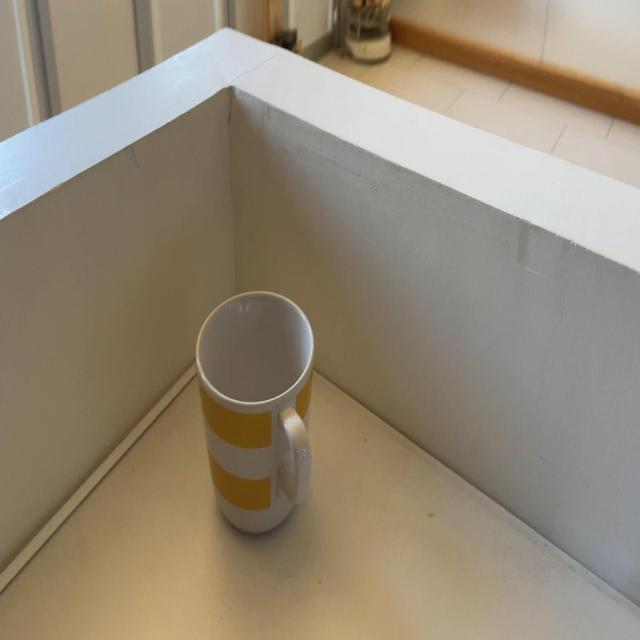cup: (191, 287, 319, 533)
